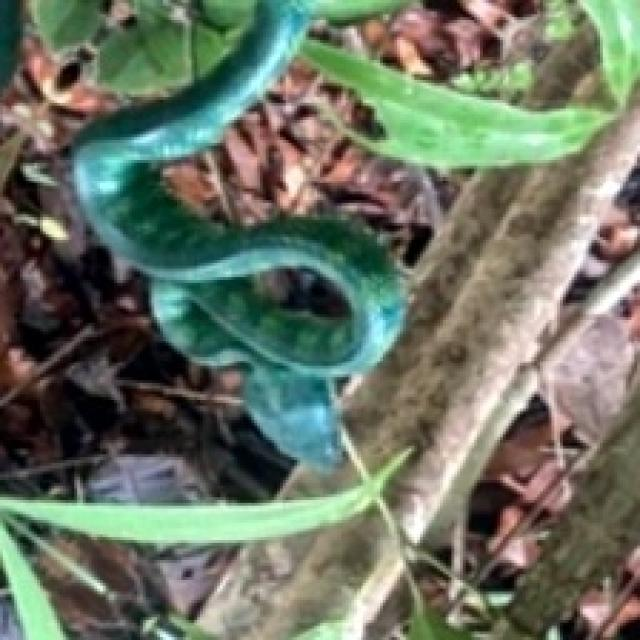north ph temple pitviper: (71, 0, 609, 463)
